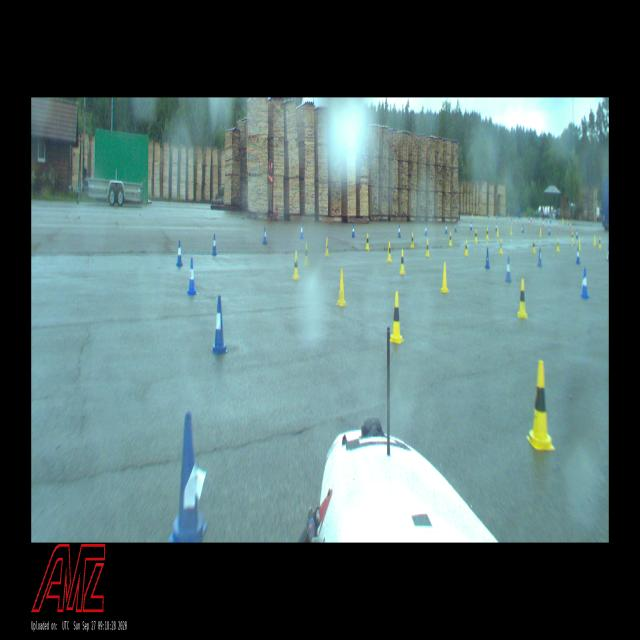blue_cone: (173, 412, 204, 540), (213, 296, 226, 354), (188, 258, 196, 295), (581, 268, 589, 298), (506, 256, 512, 282), (176, 240, 182, 266), (212, 234, 217, 255), (485, 247, 490, 268), (538, 246, 542, 266), (263, 227, 267, 244), (576, 248, 580, 263), (300, 222, 303, 238), (398, 224, 401, 237), (606, 245, 608, 261), (352, 224, 354, 238), (446, 222, 448, 234), (425, 224, 427, 235), (454, 222, 456, 232), (470, 221, 472, 230), (548, 225, 550, 234), (576, 229, 578, 238), (522, 224, 524, 232), (495, 223, 497, 231), (546, 217, 547, 223), (488, 213, 489, 218), (496, 214, 497, 218), (550, 218, 551, 222), (488, 214, 488, 218)
orange_cone: (555, 221, 557, 228), (514, 218, 516, 225), (542, 221, 544, 226), (529, 219, 530, 226), (570, 222, 571, 228), (492, 215, 493, 219), (532, 217, 532, 222), (508, 217, 508, 220)
yellow_cone: (529, 360, 551, 448), (391, 292, 402, 342), (517, 278, 527, 318), (338, 268, 346, 306), (293, 250, 300, 280), (441, 262, 448, 292), (400, 249, 405, 274), (304, 242, 309, 266), (387, 241, 392, 261), (426, 238, 430, 258), (325, 237, 329, 256), (366, 233, 370, 250), (464, 240, 468, 256), (532, 238, 536, 252), (556, 238, 560, 252), (474, 230, 478, 242), (411, 232, 414, 248), (499, 239, 502, 254), (449, 232, 452, 246), (486, 228, 488, 240), (599, 236, 601, 248), (594, 234, 596, 245), (572, 232, 574, 241), (510, 226, 512, 235), (540, 228, 542, 236), (579, 238, 580, 250), (497, 227, 498, 236), (567, 219, 568, 225), (481, 213, 482, 218), (562, 218, 563, 223), (478, 213, 479, 217), (491, 214, 492, 218), (472, 212, 472, 216), (540, 216, 540, 220)
